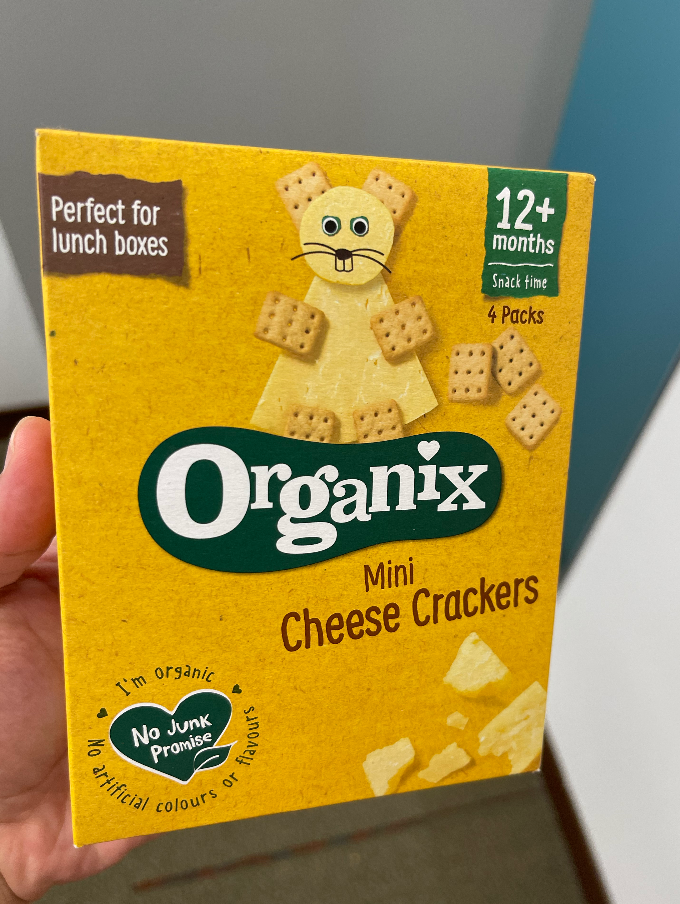crackers_1g-99g: (68, 158, 564, 792)
